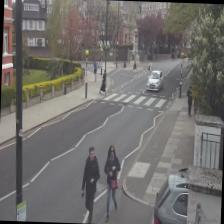person: (80, 145, 100, 224), (101, 144, 121, 222)
